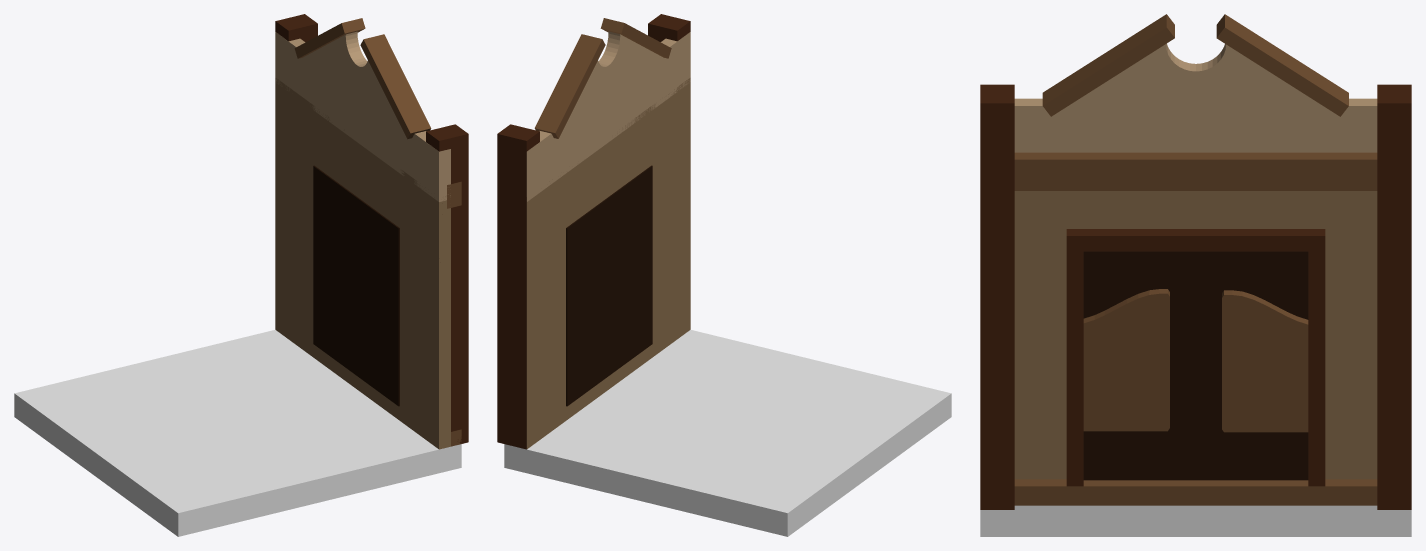
File: tile1wallD.fbx
3 views of the same model, side by side, from view 1: azimuth 30°, elevation 25°; view 2: azimuth 150°, elevation 25°; view 3: azimuth 270°, elevation 25° (orthographic). The views are drawn at different scales.
Parts seen in each view (by area): view 1: Cube, Cube.001, Cube.013, Cube.004, Cube.005, Cube.007; view 2: Cube, Cube.001, Cube.013, Cube.004, Cube.005, Cube.007; view 3: Cube.001, Cube.005, Cube.013, Cube.004, Cube.014, Cube.011, Cube.002, Cube, Cube.003, Cube.007.
Part boxes in pixels (bbox=[...]): Cube: bbox=[14, 329, 461, 536]; Cube.001: bbox=[275, 78, 450, 449]; Cube.013: bbox=[313, 165, 399, 406]; Cube.004: bbox=[275, 31, 450, 201]; Cube.005: bbox=[275, 14, 468, 444]; Cube.007: bbox=[294, 18, 431, 139]; Cube: bbox=[504, 329, 951, 536]; Cube.001: bbox=[526, 77, 690, 449]; Cube.013: bbox=[566, 165, 652, 406]; Cube.004: bbox=[526, 31, 690, 201]; Cube.005: bbox=[497, 14, 690, 449]; Cube.007: bbox=[534, 18, 671, 138]; Cube.001: bbox=[1014, 191, 1377, 479]; Cube.005: bbox=[980, 84, 1411, 509]; Cube.013: bbox=[1083, 251, 1308, 480]; Cube.004: bbox=[1014, 43, 1377, 152]; Cube.014: bbox=[1083, 289, 1308, 432]; Cube.011: bbox=[1066, 229, 1325, 486]; Cube.002: bbox=[1014, 152, 1377, 190]; Cube: bbox=[980, 505, 1411, 536]; Cube.003: bbox=[1014, 479, 1377, 505]; Cube.007: bbox=[1042, 14, 1348, 116].
Size of the model in its own units: 512 by 646 by 500.
Materials: 2 (1 with a texture image).
